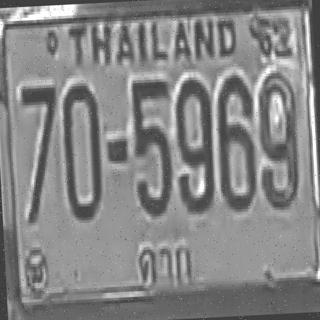N00: (60, 80, 102, 218)
N05: (129, 76, 174, 215)
N06: (213, 72, 257, 210)
N07: (19, 81, 61, 222)
N09: (255, 70, 300, 208), (172, 74, 214, 212)
P69: (128, 241, 196, 291)
